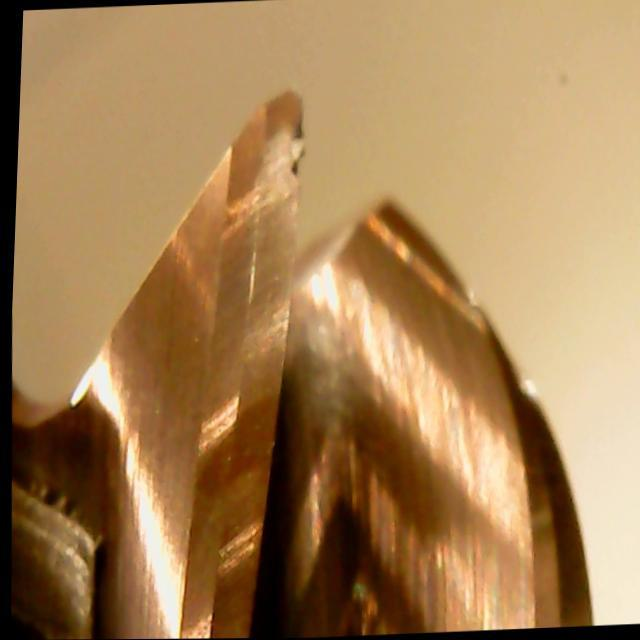Tool-wear-class-1: (181, 85, 328, 347)
